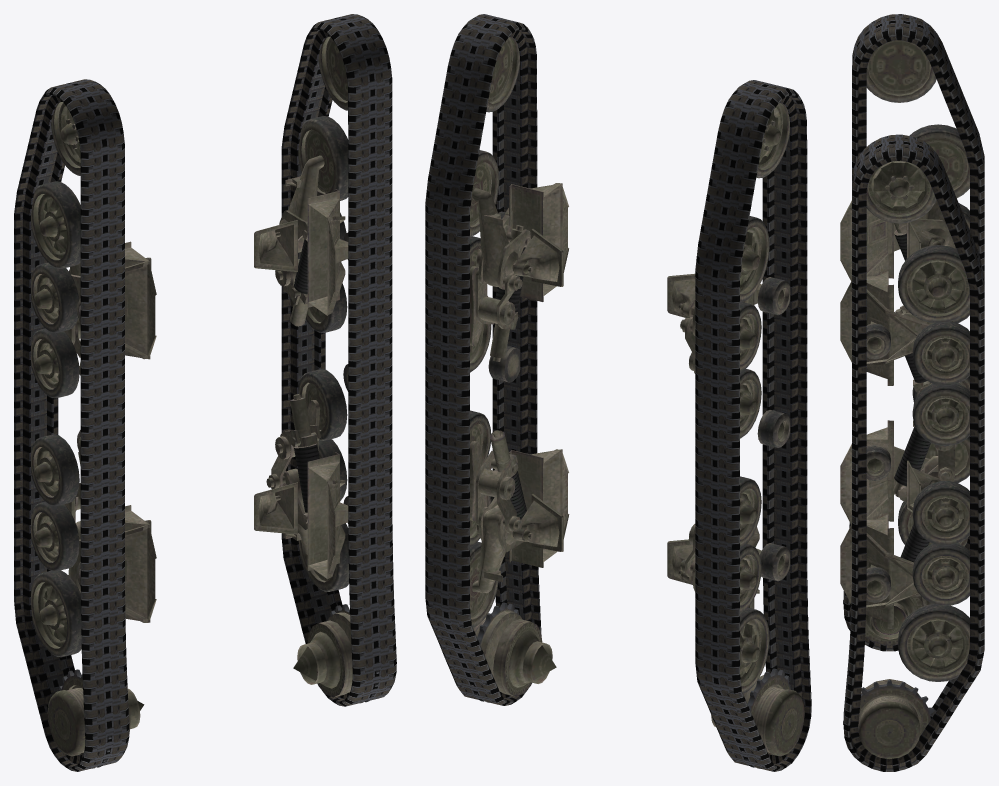
File: Chassis.glb
The picture shows the model from 3 angles, left to right: view 1: azimuth 30°, elevation 25°; view 2: azimuth 150°, elevation 25°; view 3: azimuth 270°, elevation 25°; orthographic projection. The views are drawn at different scales.
Parts seen in each view (by area): view 1: set_0_group_0, set_1_group_0, set_3_group_0, set_2_group_0; view 2: set_0_group_0, set_1_group_0, set_3_group_0, set_2_group_0; view 3: set_3_group_0, set_1_group_0, set_2_group_0, set_0_group_0.
Boxes of the visible parts, box(x1,y1,x2,y2) form: set_0_group_0: box(14, 79, 129, 771); set_1_group_0: box(281, 14, 396, 706); set_3_group_0: box(254, 36, 379, 703); set_2_group_0: box(31, 101, 156, 768); set_0_group_0: box(695, 80, 811, 771); set_1_group_0: box(425, 14, 541, 705); set_3_group_0: box(470, 36, 569, 702); set_2_group_0: box(667, 102, 804, 768); set_3_group_0: box(840, 160, 969, 758); set_1_group_0: box(843, 134, 984, 771); set_2_group_0: box(840, 40, 969, 645); set_0_group_0: box(843, 14, 984, 651).
Bounding box in the file's own units: 2.58 × 5.32 × 1.12.
Materials: 4 (4 with a texture image).
